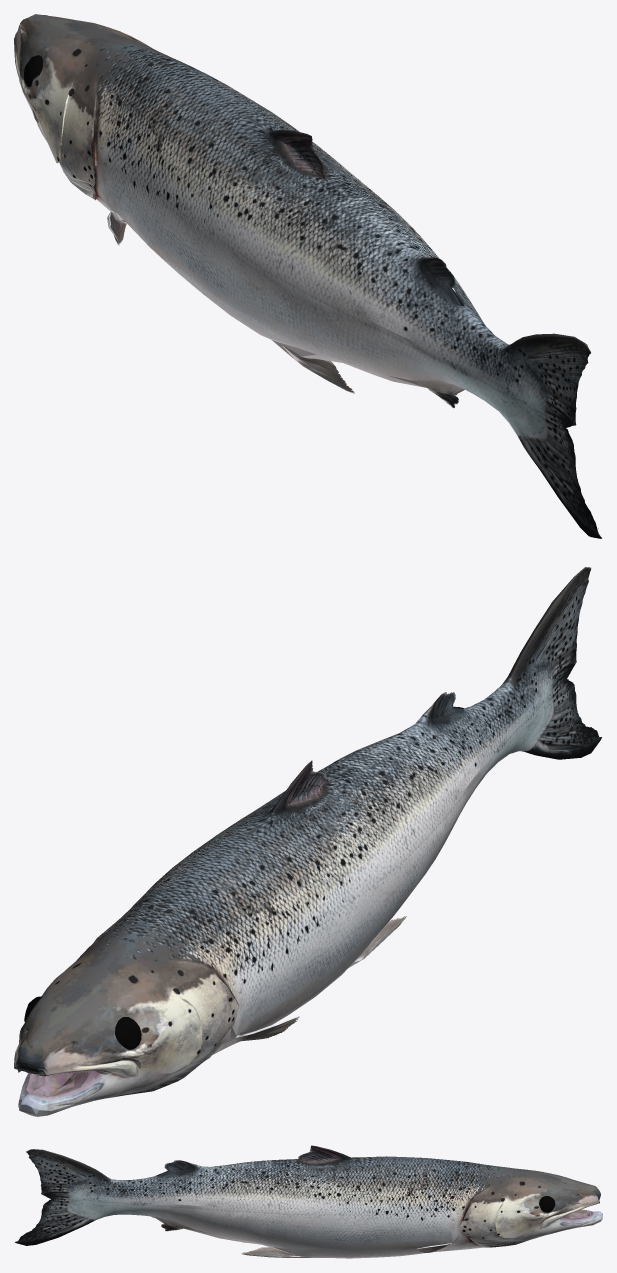
The model's file is smolt-to-adult-20_newMat.glb.
The picture shows the model from 3 angles, top to bottom: view 1: azimuth 30°, elevation 25°; view 2: azimuth 150°, elevation 25°; view 3: azimuth 270°, elevation 25°; orthographic projection. The views are drawn at different scales.
Parts seen in each view (by area): view 1: smolt-to-adult-15; view 2: smolt-to-adult-15; view 3: smolt-to-adult-15.
Boxes of the visible parts, left/top/right/bottom form: smolt-to-adult-15: left=14, top=14, right=601, bottom=538; smolt-to-adult-15: left=14, top=567, right=601, bottom=1116; smolt-to-adult-15: left=15, top=1145, right=602, bottom=1258.
Bounding box in the file's own units: 9.73 × 10.85 × 53.58.
1 material, 1 textured.
